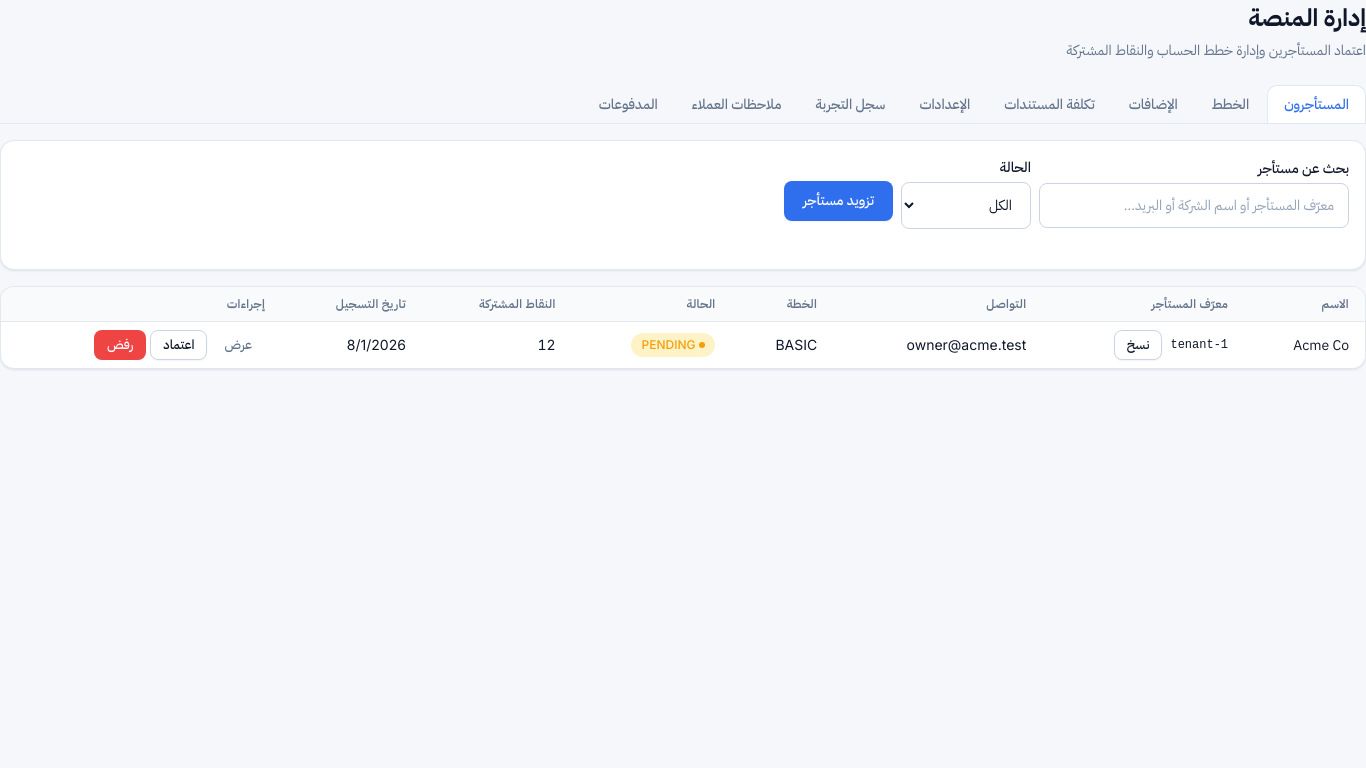
Test: platform admin page › keeps the Arabic delete confirmation copy
Click the tab "الخطط" at {"x": 1230, "y": 104}, box [1196,85,1265,123]
(page scrolled)
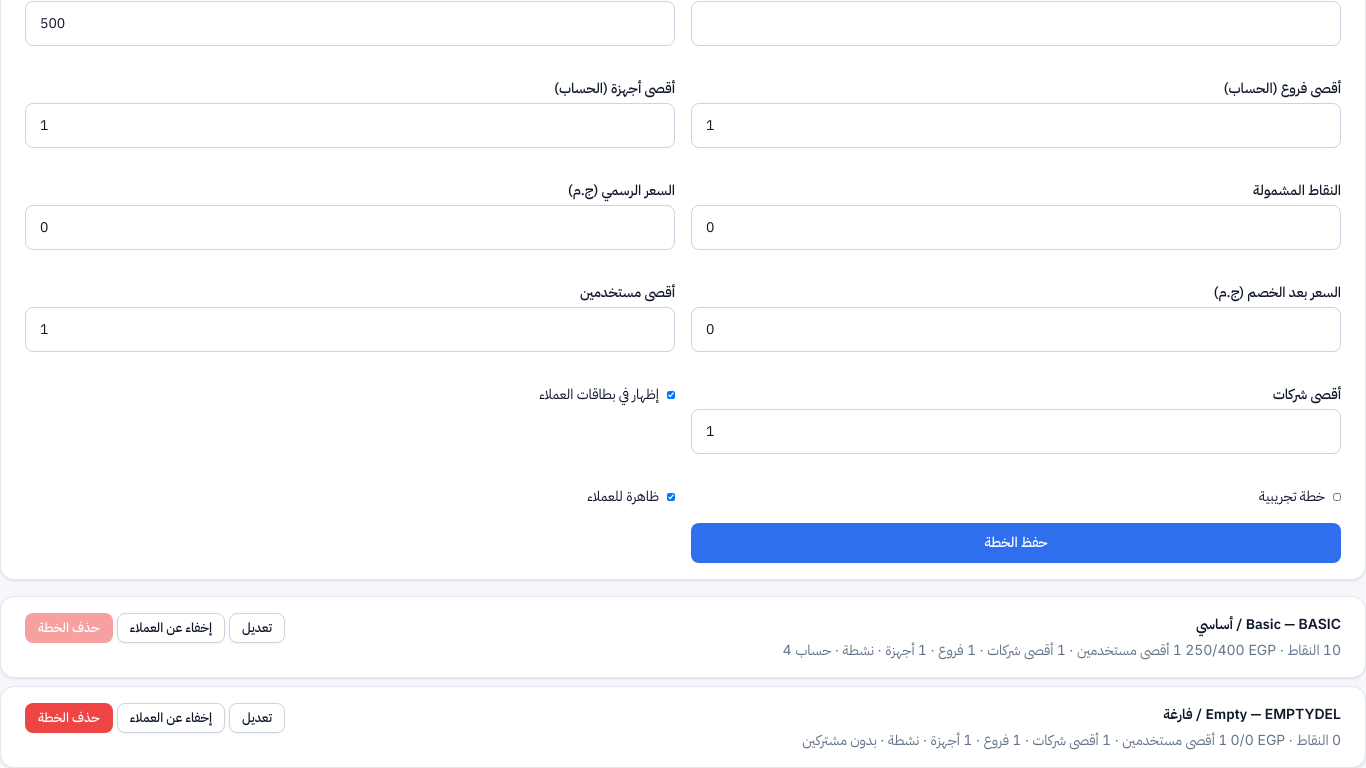
Check: the button "حذف الخطة" in the row of "بدون مشتركين" is shown
Click the button "حذف الخطة" in the row of "بدون مشتركين" at {"x": 69, "y": 718}, box [25,702,113,733]
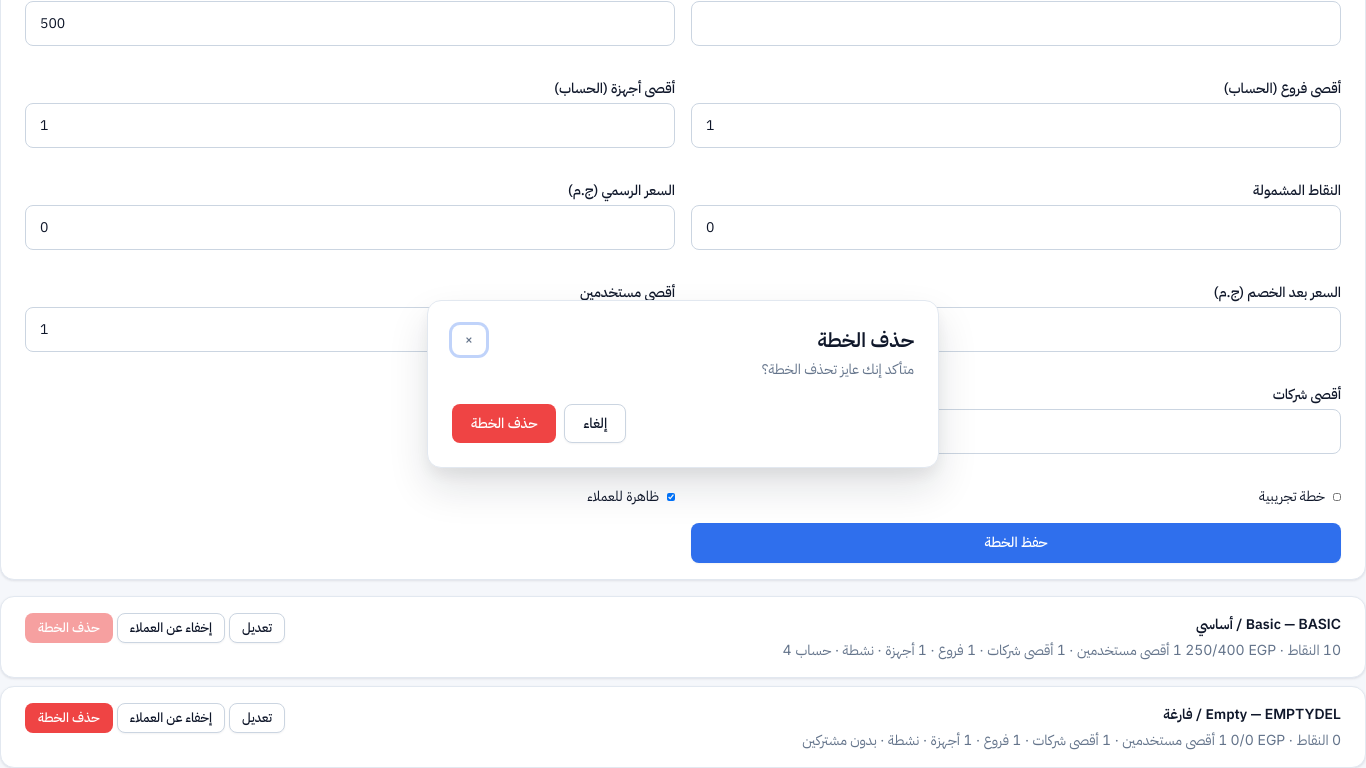
Check: the text "متأكد إنك عايز تحذف الخطة؟" is shown, box [762,359,914,380]
